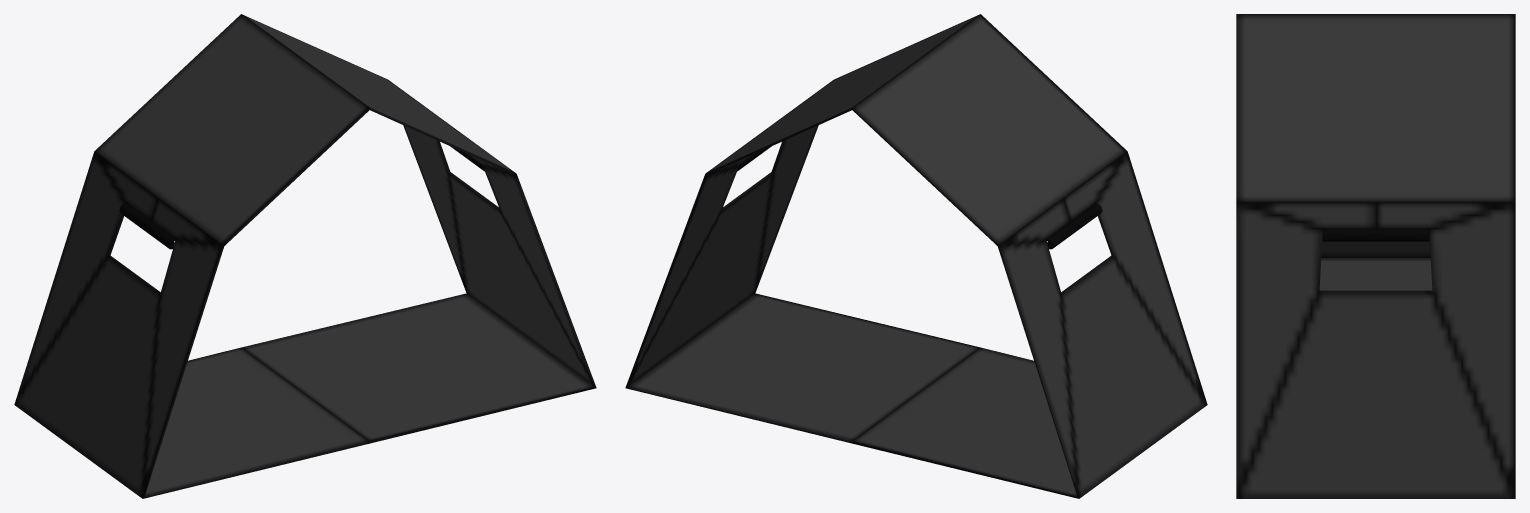
File: BarracksSub.fbx
The picture shows the model from 3 angles, left to right: view 1: azimuth 30°, elevation 25°; view 2: azimuth 150°, elevation 25°; view 3: azimuth 270°, elevation 25°; orthographic projection. The views are drawn at different scales.
Parts seen in each view (by area): view 1: BarracksSub; view 2: BarracksSub; view 3: BarracksSub.
Boxes of the visible parts, x1,y1,x2,y2 form: BarracksSub: [14, 14, 596, 498]; BarracksSub: [625, 14, 1207, 498]; BarracksSub: [1236, 14, 1515, 498].
Size of the model in its own units: 1142 by 807 by 560.
